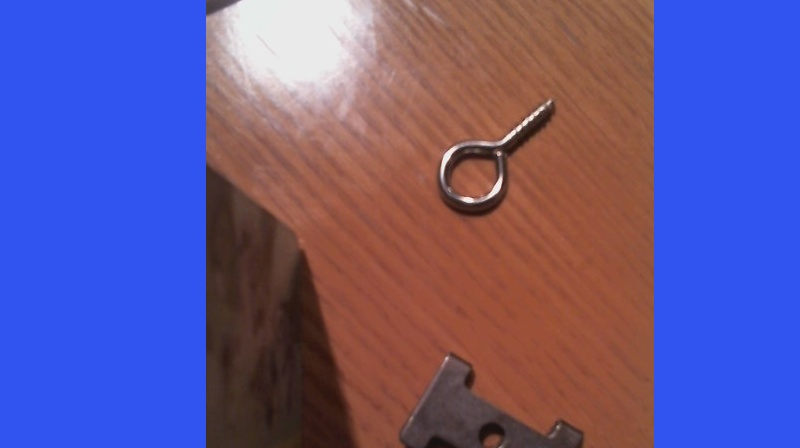O001: (433, 96, 561, 213)
O002: (397, 349, 586, 447)
